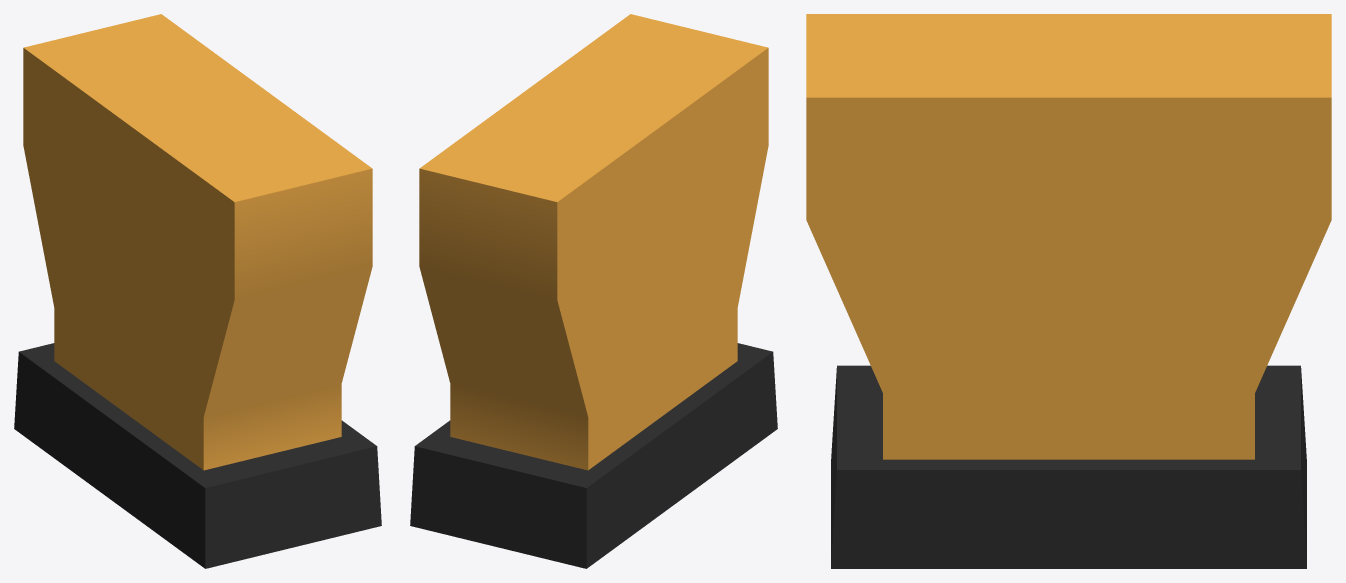
Rendered from Pipe_1_C_5.fbx.
3 renders of one model, left to right at view 1: azimuth 30°, elevation 25°; view 2: azimuth 150°, elevation 25°; view 3: azimuth 270°, elevation 25°, orthographic. The views are drawn at different scales.
Parts seen in each view (by area): view 1: Pipe_1_C_5; view 2: Pipe_1_C_5; view 3: Pipe_1_C_5.
Boxes of the visible parts, x1,y1,x2,y2 form: Pipe_1_C_5: (14,14,381,568); Pipe_1_C_5: (410,14,777,568); Pipe_1_C_5: (806,14,1331,568).
Size of the model in its own units: 17 by 34.01 by 35.24.
